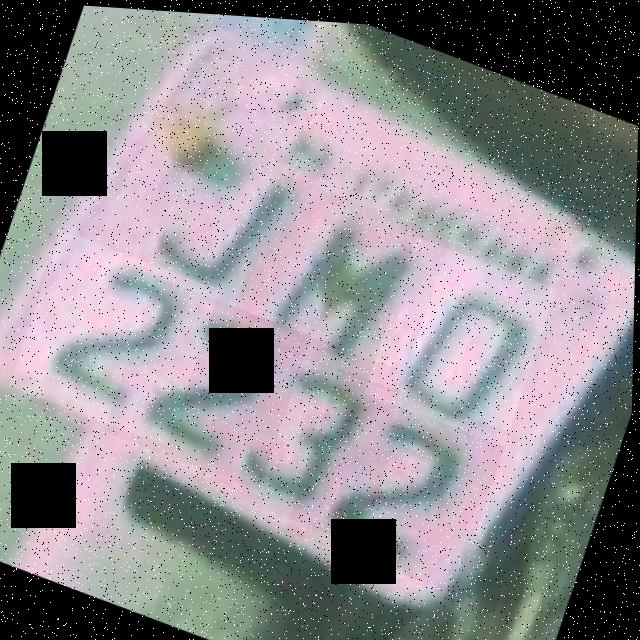2: (286, 360, 512, 590), (9, 226, 222, 446), (104, 272, 313, 489)
3: (194, 307, 419, 542)
J: (131, 110, 322, 323)
M: (228, 166, 452, 391)
O: (365, 228, 558, 441)
